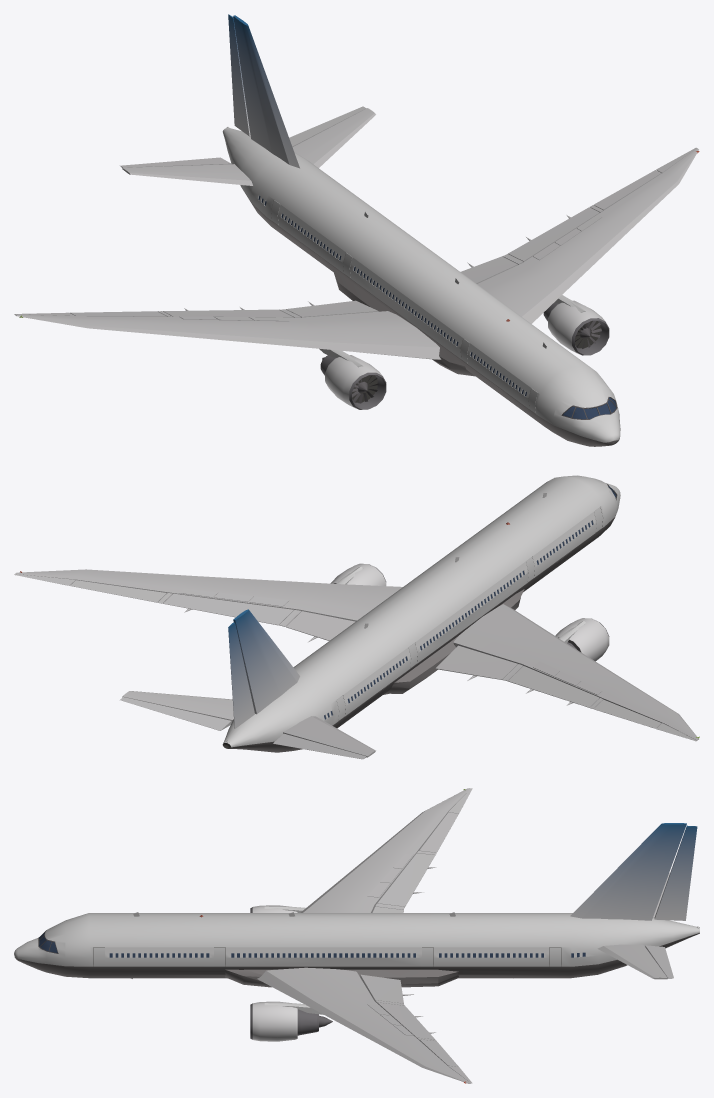
The model's file is boeing-777-200lr.glb.
The picture shows the model from 3 angles, top to bottom: view 1: azimuth 30°, elevation 25°; view 2: azimuth 150°, elevation 25°; view 3: azimuth 270°, elevation 25°; orthographic projection. The views are drawn at different scales.
Bounding box in the file's own units: 64.8 × 17.19 × 63.7.
